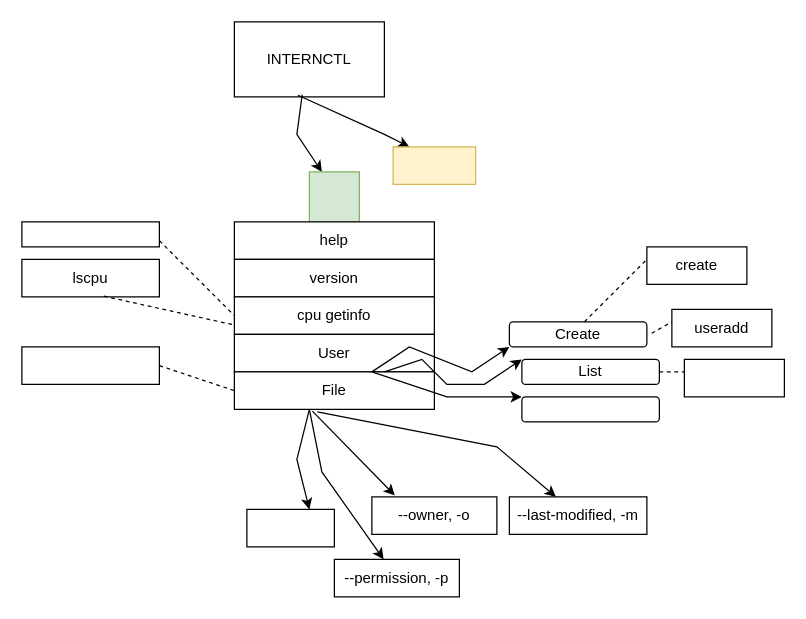
Image size: 806x619. Some labels were removed from this diagram. Here are the shapes that lost their labels. From the top down, the centre of each, then its label:
(434,165): manual
(333,196): Options
(90,234): free
(90,365): stat
(733,377): getent passwd
(590,409): List --sudo
(290,527): --size, -s
